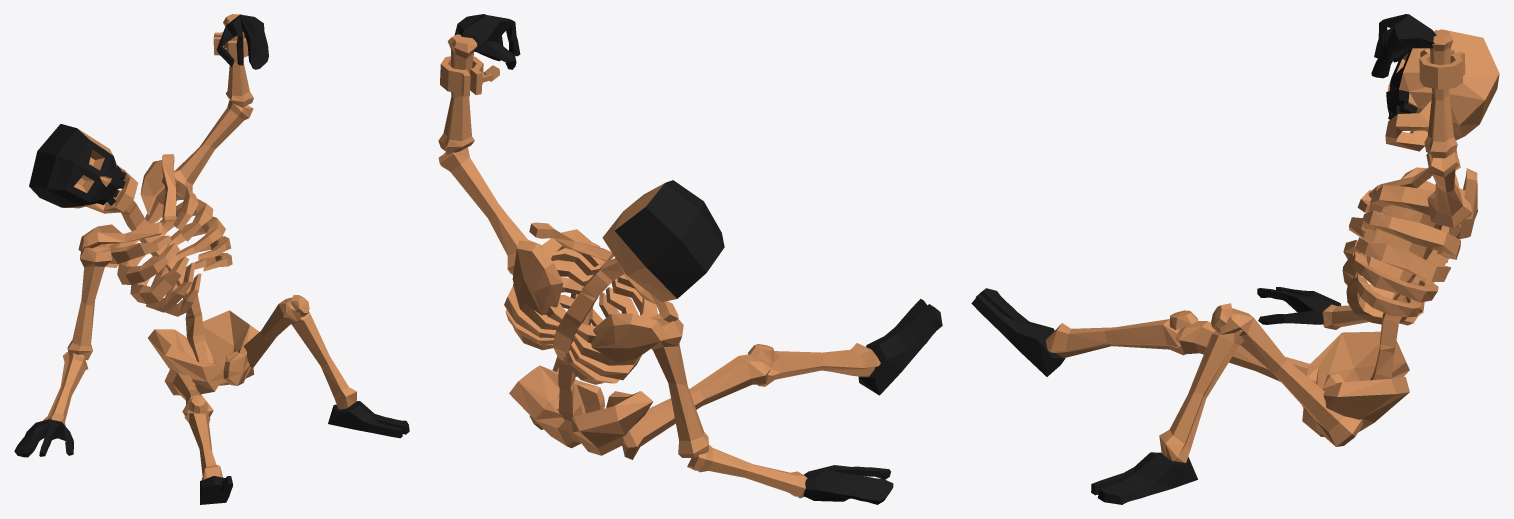
The model's file is SM_Prop_Skeleton_Shackle_01.glb.
3 renders of one model, left to right at view 1: azimuth 30°, elevation 25°; view 2: azimuth 150°, elevation 25°; view 3: azimuth 270°, elevation 25°, orthographic. The views are drawn at different scales.
Parts seen in each view (by area): view 1: SM_Prop_Skeleton_Shackle_01_00; view 2: SM_Prop_Skeleton_Shackle_01_00; view 3: SM_Prop_Skeleton_Shackle_01_00.
Part boxes in pixels (x1=…): SM_Prop_Skeleton_Shackle_01_00: x1=14, y1=14, x2=409, y2=504; SM_Prop_Skeleton_Shackle_01_00: x1=438, y1=14, x2=942, y2=504; SM_Prop_Skeleton_Shackle_01_00: x1=971, y1=14, x2=1499, y2=504.
Size of the model in its own units: 1.18 by 1.21 by 1.25.
Materials: 1 (1 with a texture image).
